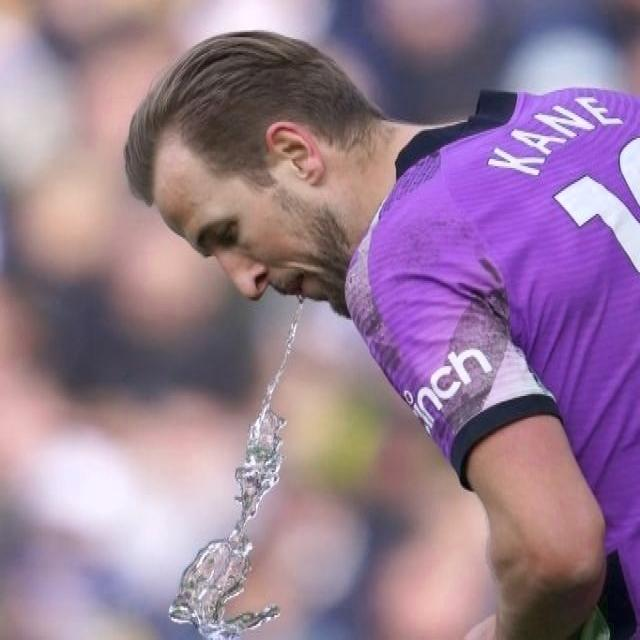Spitting: (118, 32, 392, 464)
